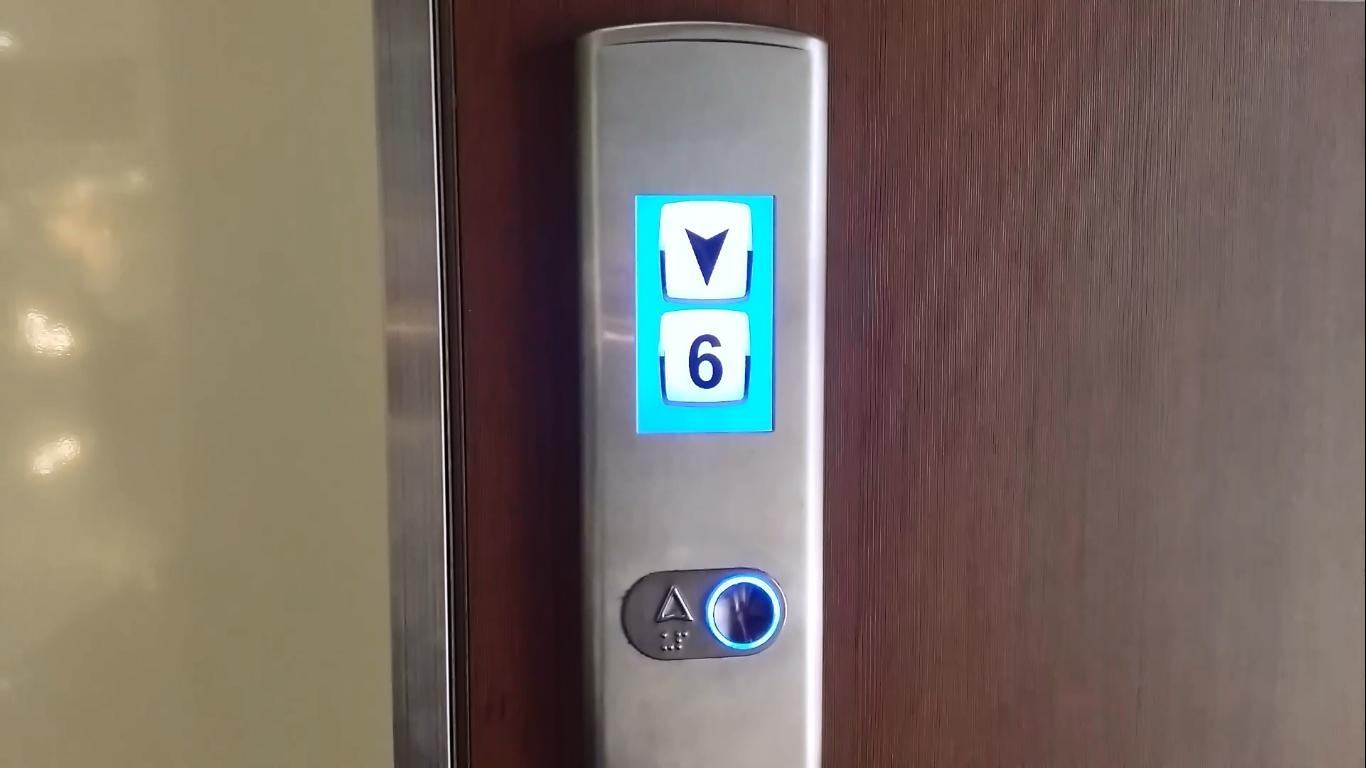led: (630, 185, 780, 439)
up: (616, 557, 789, 666)
